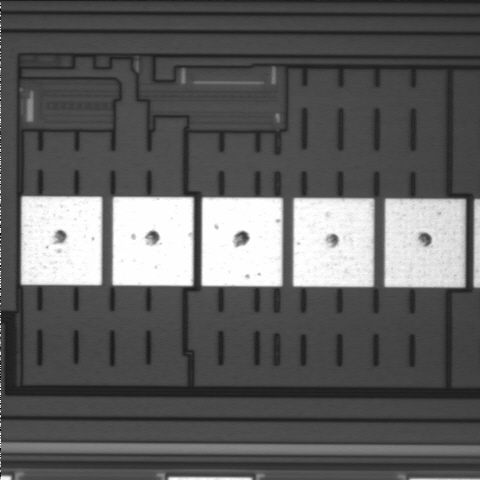pad: (112, 197, 194, 286), (21, 196, 102, 285), (202, 197, 283, 286), (293, 198, 374, 287), (385, 199, 465, 287)
